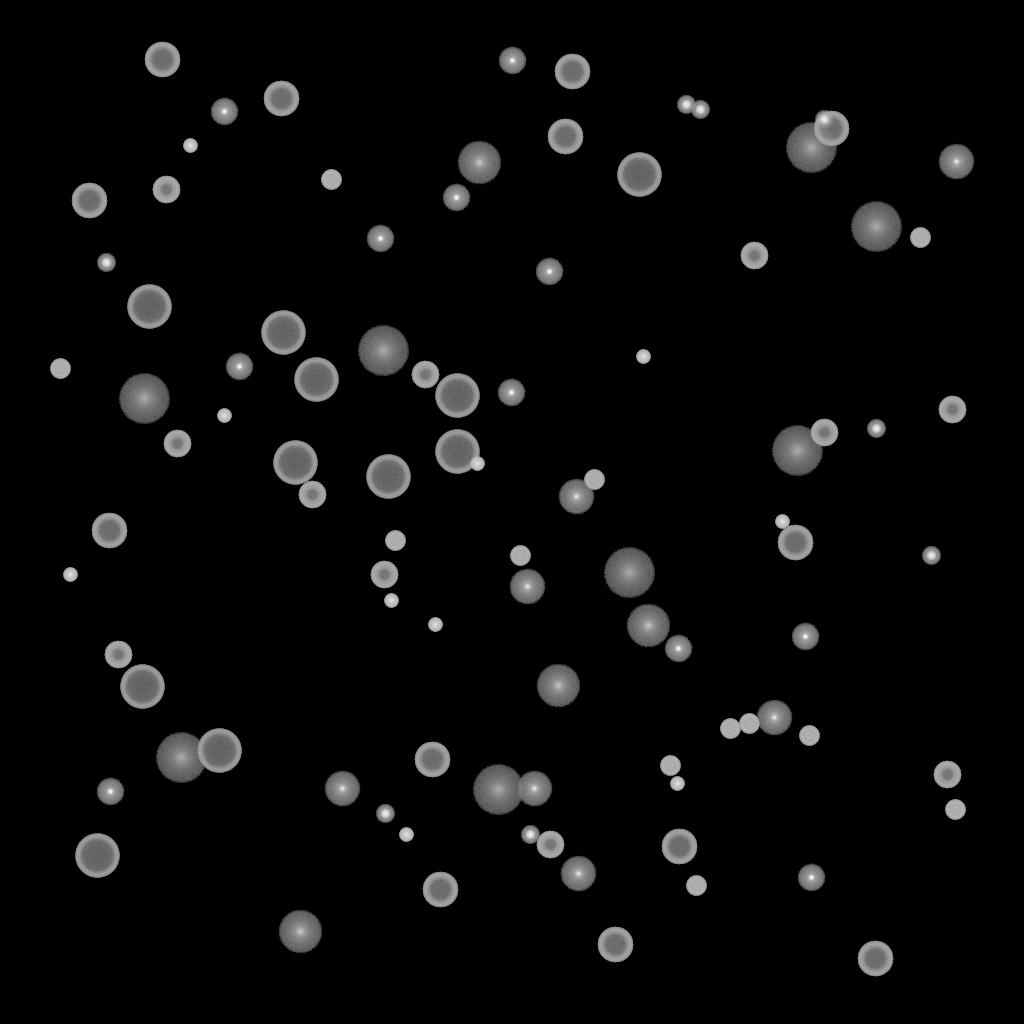depth:-10: (664, 635, 692, 663), (797, 864, 825, 892), (497, 379, 525, 407), (366, 225, 394, 253), (498, 47, 526, 75), (225, 353, 253, 381), (791, 623, 819, 651), (442, 184, 470, 212), (535, 258, 563, 286), (96, 778, 124, 806), (210, 98, 238, 126)
depth:-20: (691, 101, 709, 119), (376, 805, 394, 823), (815, 111, 833, 129), (521, 826, 539, 844), (97, 254, 115, 272), (922, 547, 940, 565), (677, 96, 695, 114), (867, 420, 885, 438)
depth:-30: (636, 350, 650, 364), (183, 139, 197, 153), (217, 409, 231, 423), (384, 594, 398, 608), (428, 618, 442, 632), (399, 828, 413, 842), (470, 457, 484, 471), (63, 568, 77, 582), (670, 777, 684, 791), (775, 515, 789, 529)
depth:-40: (739, 714, 759, 734), (720, 719, 740, 739), (799, 726, 819, 746), (945, 800, 965, 820), (510, 546, 530, 566), (910, 228, 930, 248), (50, 359, 70, 379), (321, 170, 341, 190), (385, 531, 405, 551), (686, 876, 706, 896), (584, 470, 604, 490), (660, 756, 680, 776)
depth:-50: (938, 396, 966, 424), (104, 641, 132, 669), (163, 430, 191, 458), (810, 419, 838, 447), (298, 481, 326, 509), (740, 242, 768, 270), (933, 761, 961, 789), (152, 176, 180, 204), (536, 831, 564, 859), (411, 361, 439, 389), (370, 561, 398, 589)
depth:-60: (144, 42, 180, 78), (857, 941, 893, 977), (813, 111, 849, 147), (422, 872, 458, 908), (661, 829, 697, 865), (554, 54, 590, 90), (91, 513, 127, 549), (777, 525, 813, 561), (71, 183, 107, 219), (547, 119, 583, 155), (414, 742, 450, 778), (263, 81, 299, 117), (597, 927, 633, 963)
depth:-70: (273, 441, 317, 485), (294, 358, 338, 402), (617, 153, 661, 197), (435, 374, 479, 418), (366, 455, 410, 499), (435, 430, 479, 474), (75, 834, 119, 878), (127, 285, 171, 329), (197, 729, 241, 773), (120, 665, 164, 709), (261, 311, 305, 355)
depth:0: (324, 771, 360, 807), (756, 700, 792, 736), (558, 479, 594, 515), (509, 569, 545, 605), (516, 771, 552, 807), (560, 856, 596, 892), (938, 144, 974, 180)
depth:10: (626, 604, 670, 648), (457, 141, 501, 185), (278, 910, 322, 954), (536, 664, 580, 708)
depth:20: (118, 374, 170, 424), (785, 123, 837, 173), (155, 733, 207, 783), (357, 326, 409, 376), (603, 548, 655, 598), (850, 202, 902, 252), (472, 765, 524, 815), (771, 426, 823, 476)
